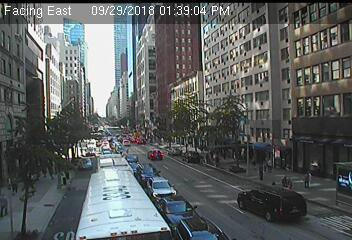car: (77, 172, 170, 240), (238, 186, 306, 222), (154, 196, 198, 230), (175, 218, 228, 240), (97, 154, 134, 184), (146, 177, 175, 199), (135, 164, 160, 185), (183, 151, 199, 162), (79, 158, 92, 170), (147, 150, 162, 160), (86, 139, 95, 152), (125, 154, 137, 163), (167, 148, 180, 155)
